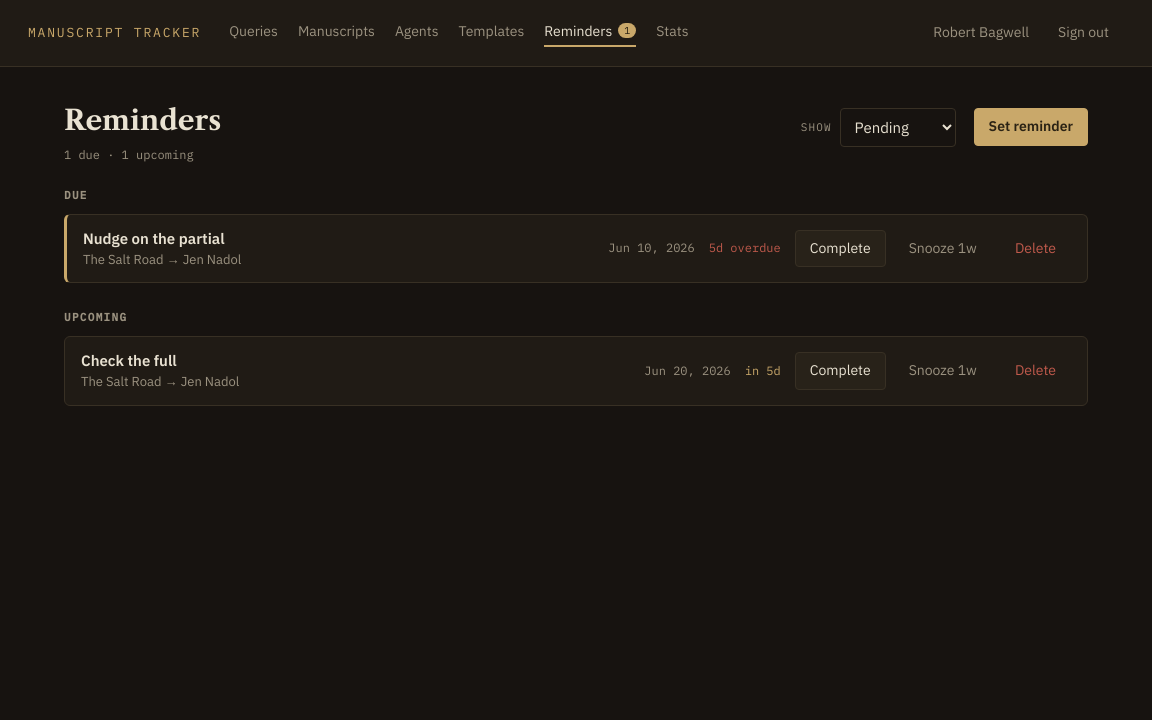
RemindersPage › completing a reminder clears it and confirms with a toast
This screenshot has width=1152, height=720.
Expected: the heading "Due" is shown, [64, 188, 88, 202]
Click the button "Complete" in the row of "Nudge on the partial". click: (840, 248)
box: [795, 230, 886, 267]
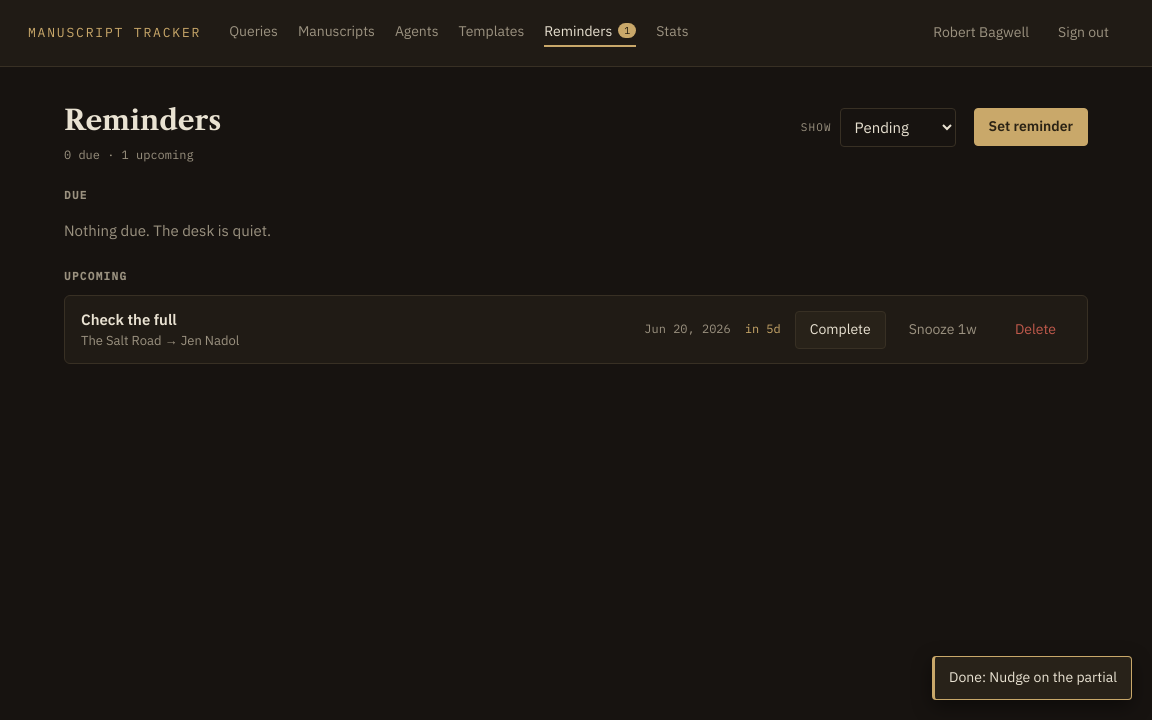
Expected: the text "Nothing due. The desk is quiet." is shown, [64, 221, 271, 240]
Expected: the text "0 due · 1 upcoming" is shown, [64, 147, 194, 162]
